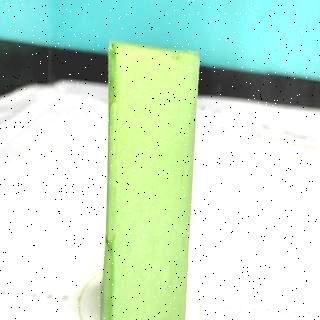greenbox: (104, 39, 201, 320)
